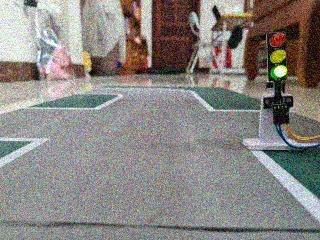green: (261, 18, 293, 90)
